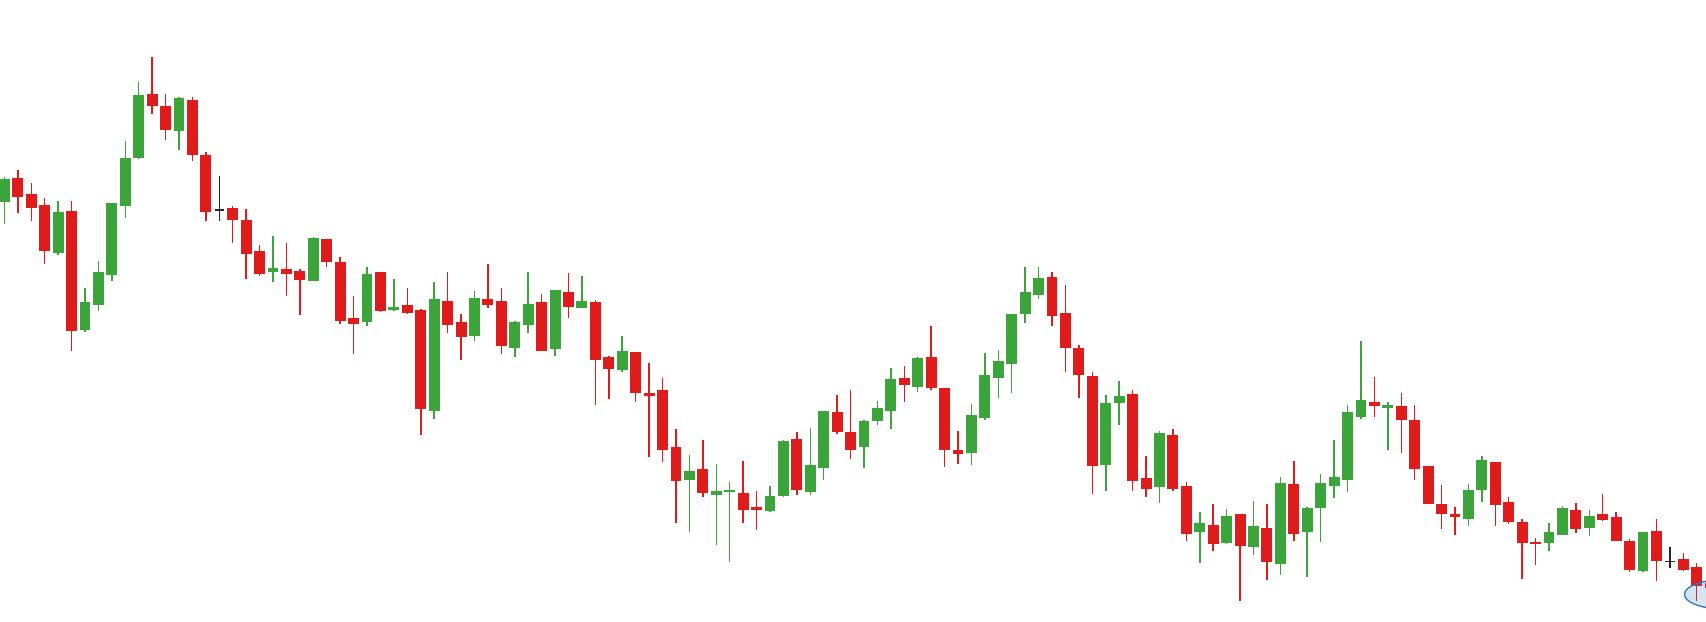sell: (1113, 343, 1367, 478), (925, 265, 1074, 387)
